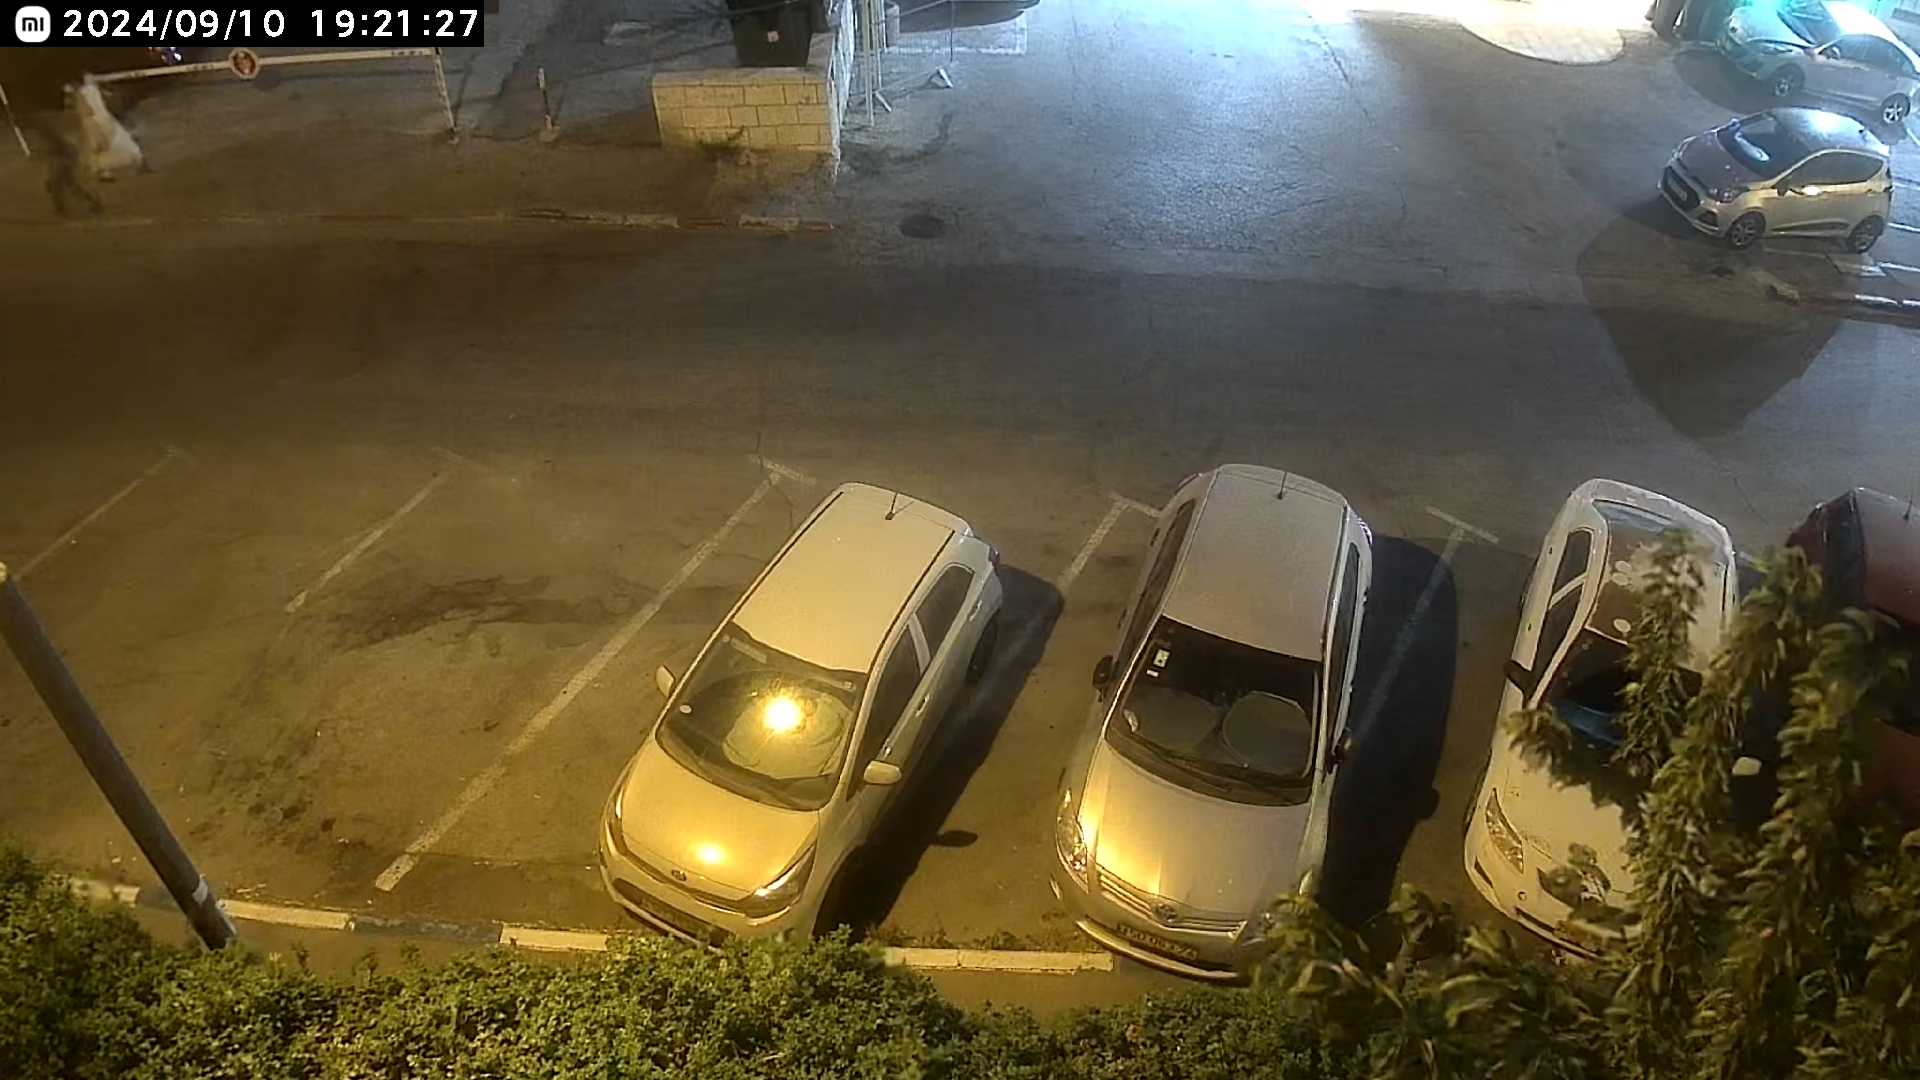empty: (123, 252, 522, 385), (1604, 253, 1869, 320)
